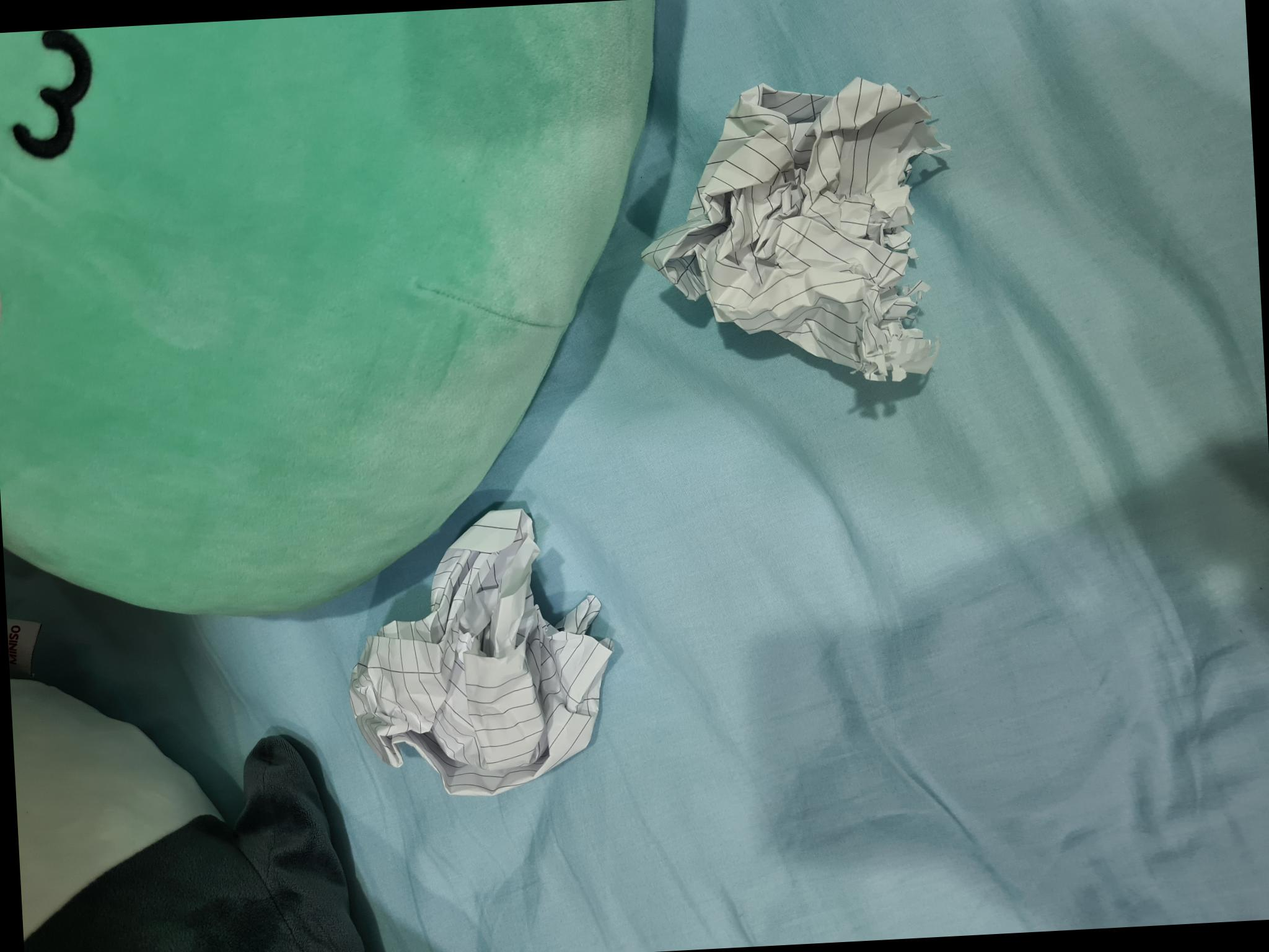Kertas: (572, 668, 886, 939), (155, 362, 461, 629)
